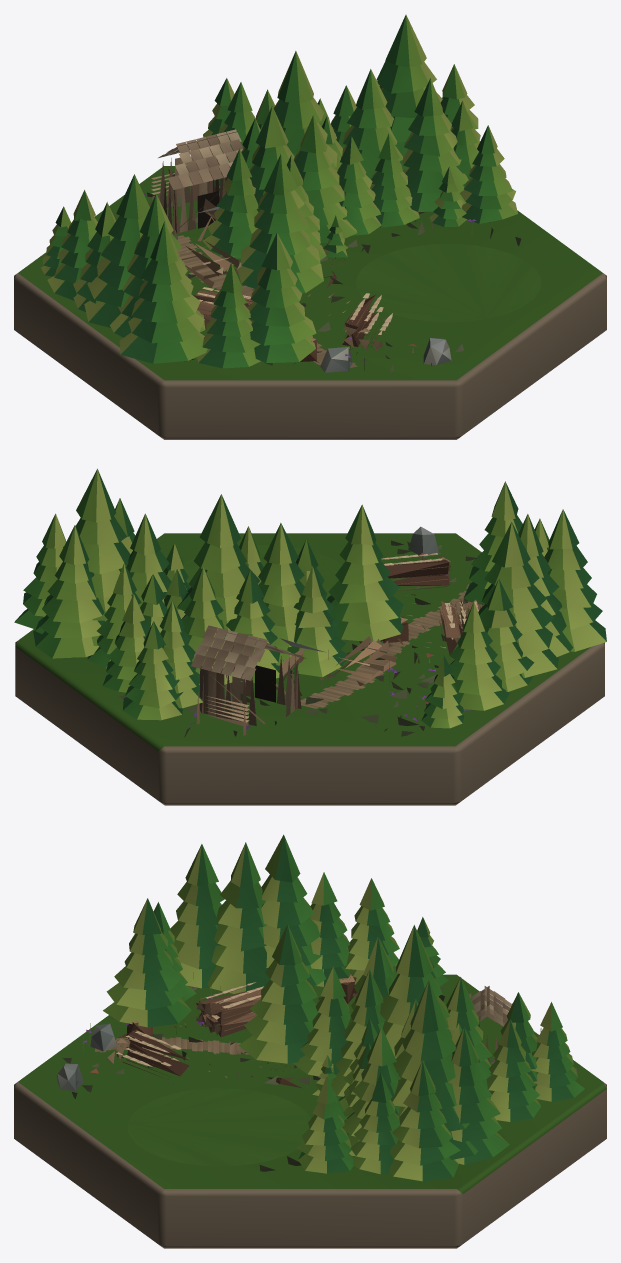
File: tile_timber_lod0.glb
3 renders of one model, top to bottom at view 1: azimuth 30°, elevation 25°; view 2: azimuth 150°, elevation 25°; view 3: azimuth 270°, elevation 25°, orthographic.
Visible parts, largest first — view 1: tile_timber_LOD0; view 2: tile_timber_LOD0; view 3: tile_timber_LOD0.
Boxes of the visible parts, x1,y1,x2,y2 form: tile_timber_LOD0: [14, 14, 606, 439]; tile_timber_LOD0: [14, 468, 606, 805]; tile_timber_LOD0: [14, 834, 606, 1248].
Bounding box in the file's own units: 1.84 × 0.8753 × 1.98.
